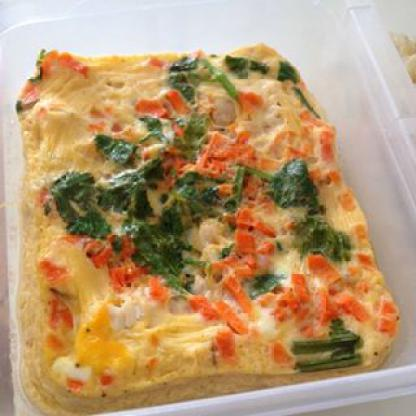Kaithoon: (9, 29, 389, 410)
